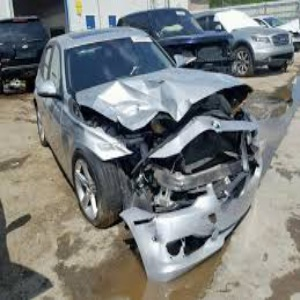bonnet: (109, 71, 252, 123)
bumper: (124, 157, 265, 259)
